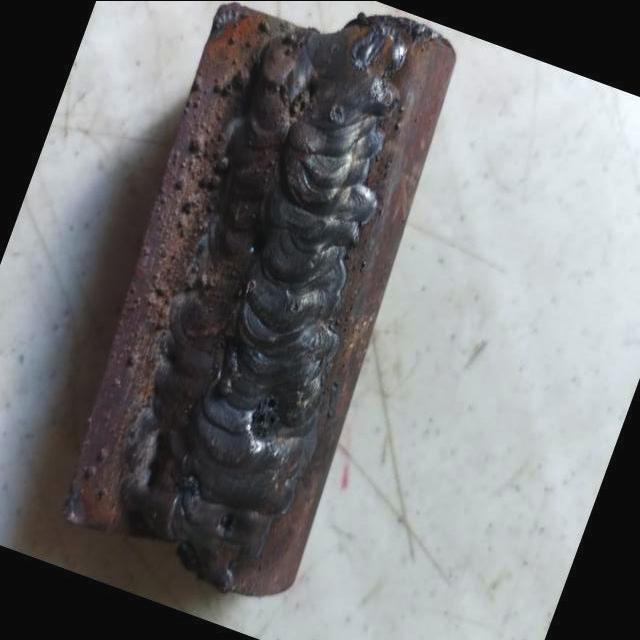defect: (245, 388, 289, 446), (289, 79, 316, 120), (176, 466, 202, 502), (215, 503, 240, 536), (326, 102, 346, 125), (282, 298, 301, 318)
